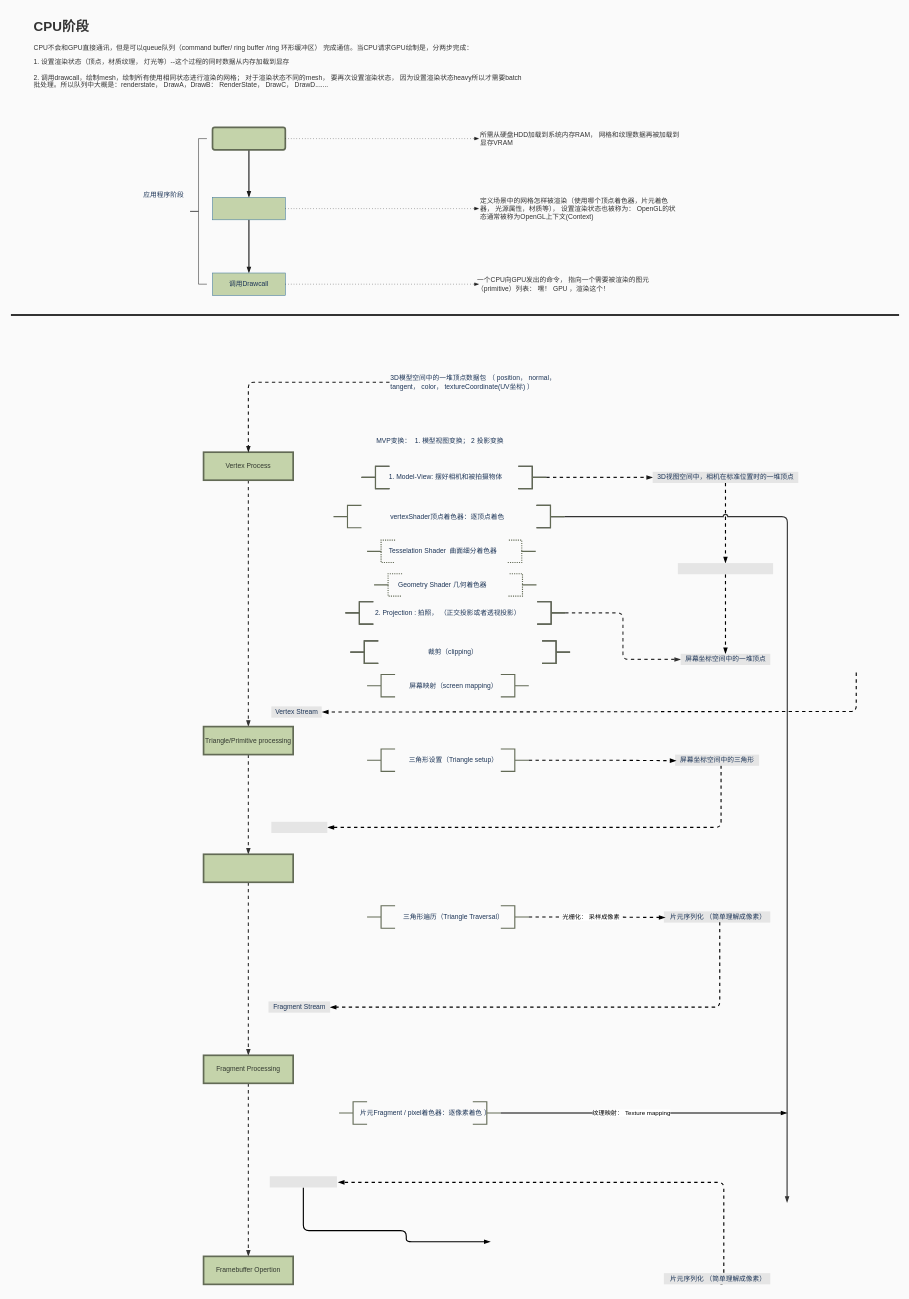
This 909x1299 diagram has some shape labels left out. The box of each missing label's shape, as (x1, y1, x2, y2) in pixels:
3D齐次裁剪空间中的一堆顶点: (678, 563, 773, 574)
Rasterization: (202, 853, 294, 883)
Shaded Fragments: (269, 1176, 337, 1187)
Triangle Stream: (271, 822, 327, 833)
数据加载到显存: (211, 126, 286, 150)
设置渲染状态: (212, 197, 285, 220)
